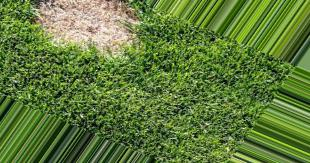patch: (66, 20, 124, 49), (69, 3, 107, 15), (46, 14, 60, 34)
